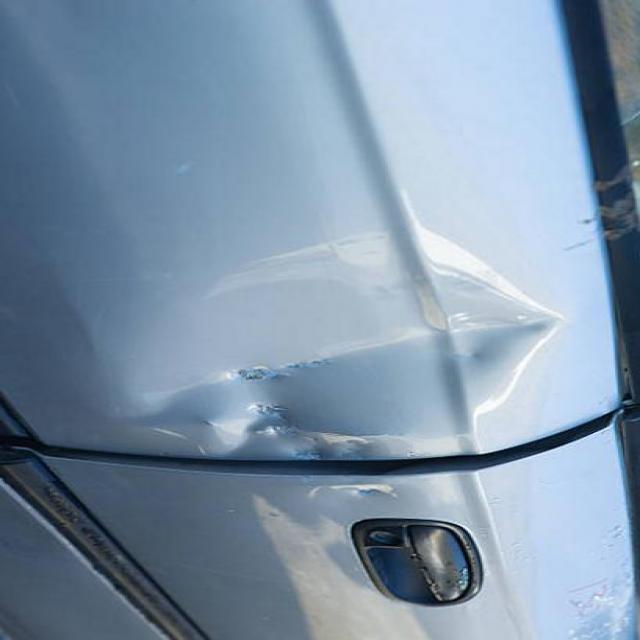dent: (104, 220, 582, 516)
